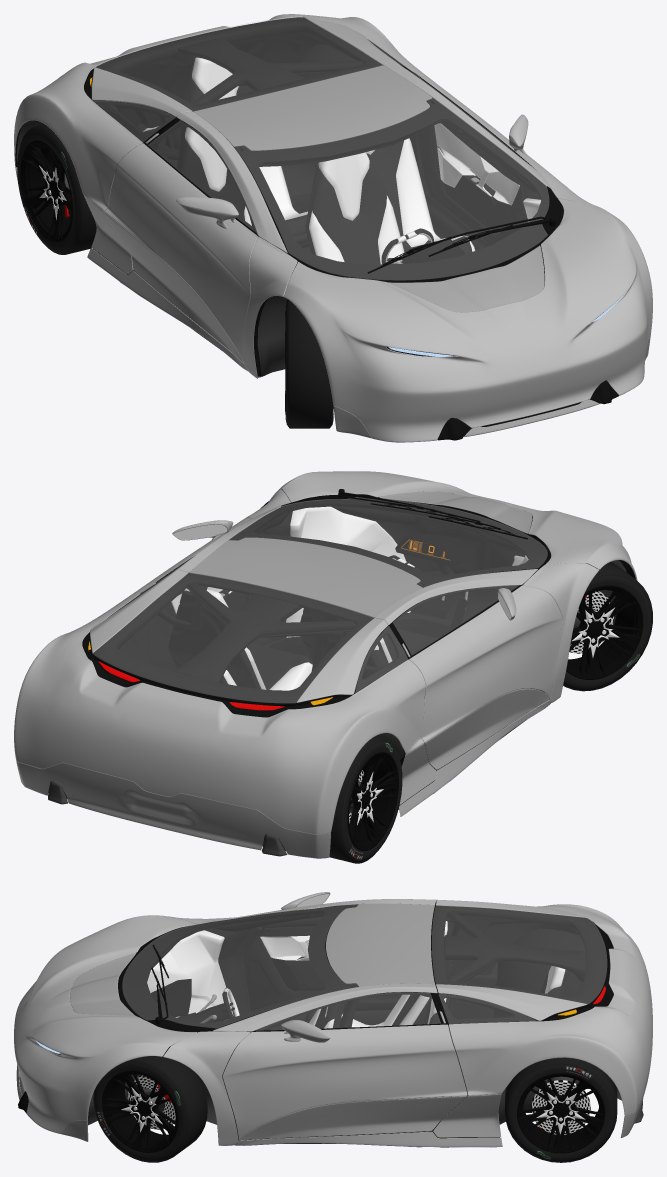
Rendered from car-concept-pearl.glb.
3 renders of one model, top to bottom at view 1: azimuth 30°, elevation 25°; view 2: azimuth 150°, elevation 25°; view 3: azimuth 270°, elevation 25°, orthographic. The views are drawn at different scales.
Parts seen in each view (by area): view 1: BodyHood, BodyWindshield, BodyRearwindow, BodyDoorRColor1, BodyRearPanelsColor1, BodyRoofPanel, BodyWindshieldGasket, InteriorSeatsColor1, InteriorSeatsColor2, BodyPillars, InteriorPillar, InteriorRearHatch (+21 smaller); view 2: BodyRearPanelsColor1, BodyRearwindow, BodyWindshield, BodyPanelsColor2, BodyDoorRColor1, BodyRoofPanel, BodyHood, InteriorRearHatch, BodyPillars, InteriorPillar, BodyWindshieldGasket, InteriorDashMid (+21 smaller); view 3: BodyRearPanelsColor1, BodyWindshield, BodyDoorLColor1, BodyHood, BodyRearwindow, BodyRoofPanel, BodyPillars, BodyWindshieldGasket, BodyDoorLColor2, BodyPanelsColor2, WheelFrontL, InteriorRearHatch (+25 smaller).
Boxes of the visible parts, bbox=[...] form: BodyHood: bbox=[283, 198, 652, 442]; BodyWindshield: bbox=[234, 98, 549, 280]; BodyRearwindow: bbox=[95, 16, 382, 110]; BodyDoorRColor1: bbox=[104, 143, 257, 362]; BodyRearPanelsColor1: bbox=[14, 14, 428, 210]; BodyRoofPanel: bbox=[193, 65, 432, 150]; BodyWindshieldGasket: bbox=[234, 99, 563, 282]; InteriorSeatsColor1: bbox=[185, 57, 475, 264]; InteriorSeatsColor2: bbox=[180, 78, 472, 264]; BodyPillars: bbox=[176, 61, 598, 378]; InteriorPillar: bbox=[158, 37, 434, 168]; InteriorRearHatch: bbox=[93, 17, 383, 117]; BodyRearPanelsColor1: bbox=[14, 569, 425, 834]; BodyRearwindow: bbox=[92, 573, 373, 703]; BodyWindshield: bbox=[229, 497, 547, 587]; BodyPanelsColor2: bbox=[16, 700, 550, 858]; BodyDoorRColor1: bbox=[409, 585, 562, 742]; BodyRoofPanel: bbox=[189, 537, 422, 617]; BodyHood: bbox=[279, 471, 637, 580]; InteriorRearHatch: bbox=[93, 573, 386, 707]; BodyPillars: bbox=[175, 489, 599, 702]; InteriorPillar: bbox=[174, 574, 417, 682]; BodyWindshieldGasket: bbox=[230, 497, 550, 587]; InteriorDashMid: bbox=[331, 503, 528, 622]; BodyRearPanelsColor1: bbox=[436, 899, 652, 1115]; BodyWindshield: bbox=[122, 904, 357, 1028]; BodyDoorLColor1: bbox=[222, 1024, 467, 1139]; BodyHood: bbox=[14, 915, 196, 1133]; BodyRearwindow: bbox=[432, 905, 606, 1003]; BodyRoofPanel: bbox=[326, 903, 434, 986]; BodyPillars: bbox=[163, 899, 437, 1145]; BodyWindshieldGasket: bbox=[118, 905, 357, 1032]; BodyDoorLColor2: bbox=[240, 1096, 467, 1140]; BodyPanelsColor2: bbox=[16, 1050, 652, 1147]; WheelFrontL: bbox=[93, 1054, 207, 1162]; InteriorRearHatch: bbox=[431, 905, 606, 1020].
Bounding box in the file's own units: 2.54 × 1.15 × 4.36.
22 materials, 3 textured.
